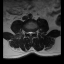CCS_normal: (30, 29, 31, 38)
LFS_normal: (33, 30, 36, 35)
LLS_normal: (31, 30, 33, 35)
RFS_stenosis: (26, 30, 28, 35)
RLS_normal: (28, 30, 30, 36)
